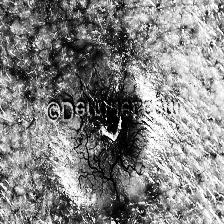Potentially Malignant Skin Tumors: (92, 114, 122, 144)
